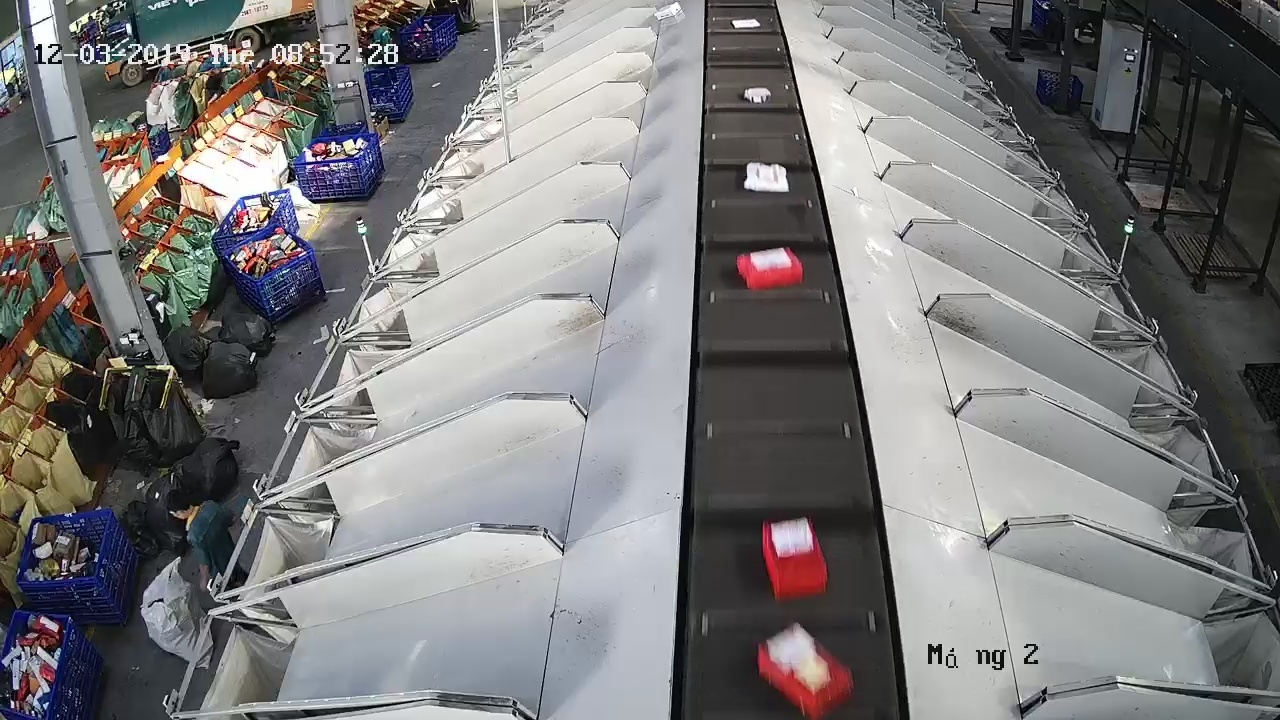parcel: (755, 619, 856, 720), (761, 514, 830, 605), (735, 245, 805, 292), (742, 160, 791, 194), (742, 85, 773, 105)
